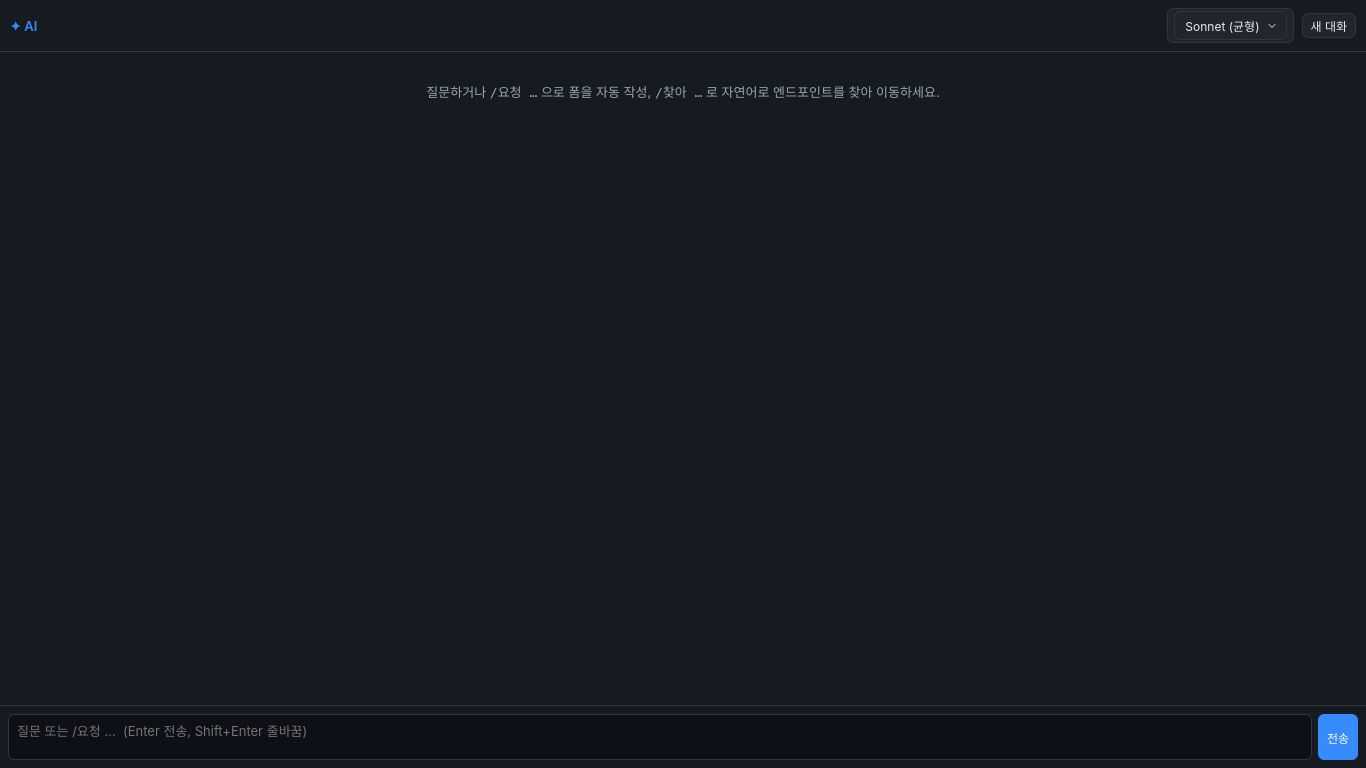
Test case: AiPanel › '새 대화'는 진행 중 스트림을 취소하고 busy를 해제한다
Type "느린 질문" into the text box with placeholder "질문 또는 /요청 … (Enter 전송, Shift+Enter 줄바꿈)" at (660, 737), box x1=8 y1=714 x2=1312 y2=760
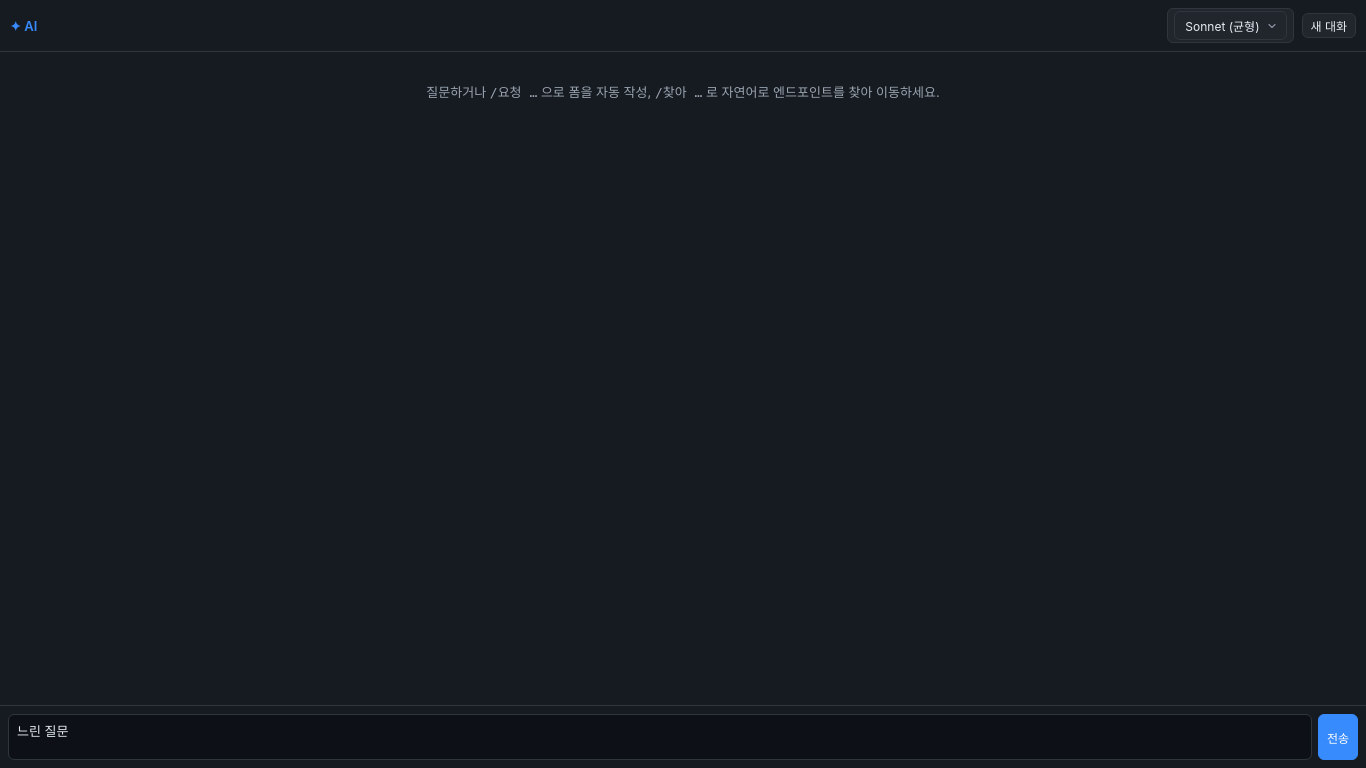
Click the button "전송" at (1338, 737), box x1=1318 y1=714 x2=1358 y2=760
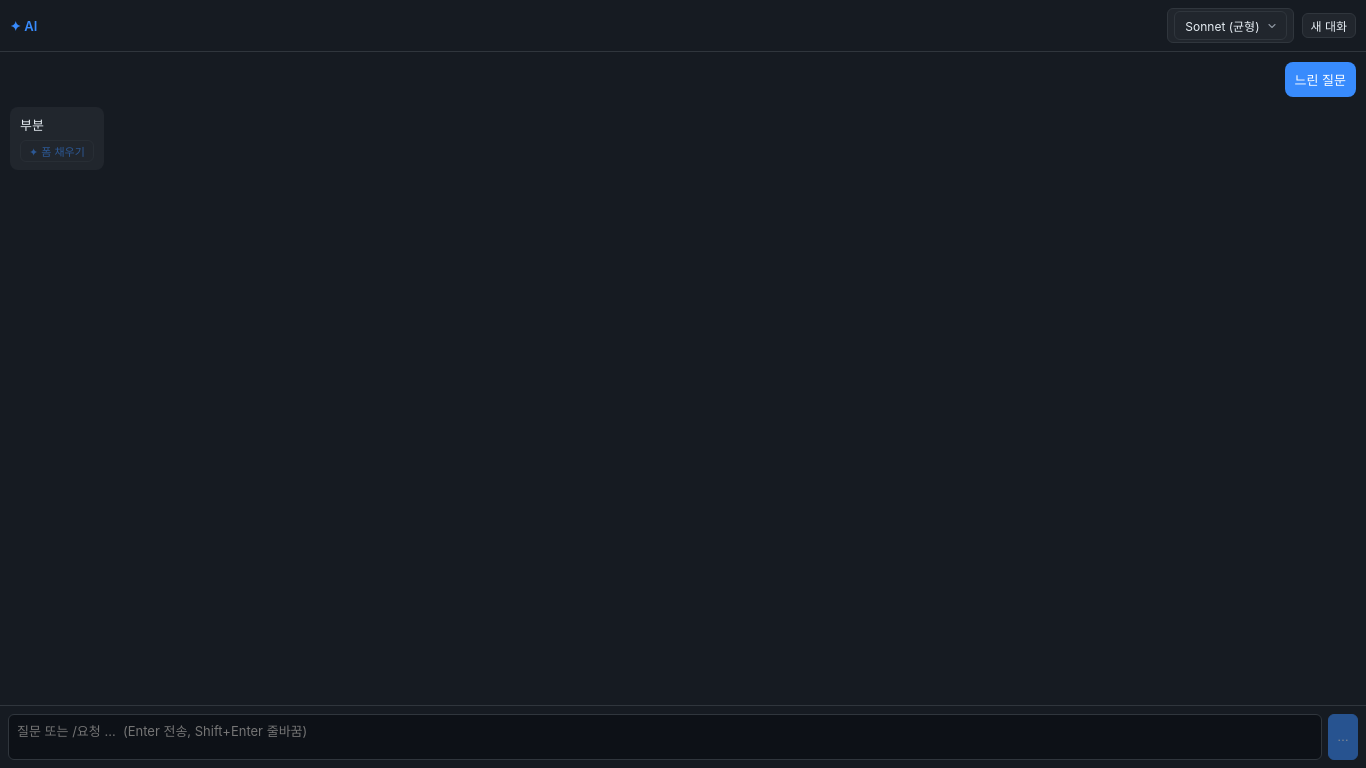
Now the button "…" is shown, box x1=1328 y1=714 x2=1358 y2=760
Click the button "새 대화" at (1329, 26), box x1=1302 y1=13 x2=1356 y2=38
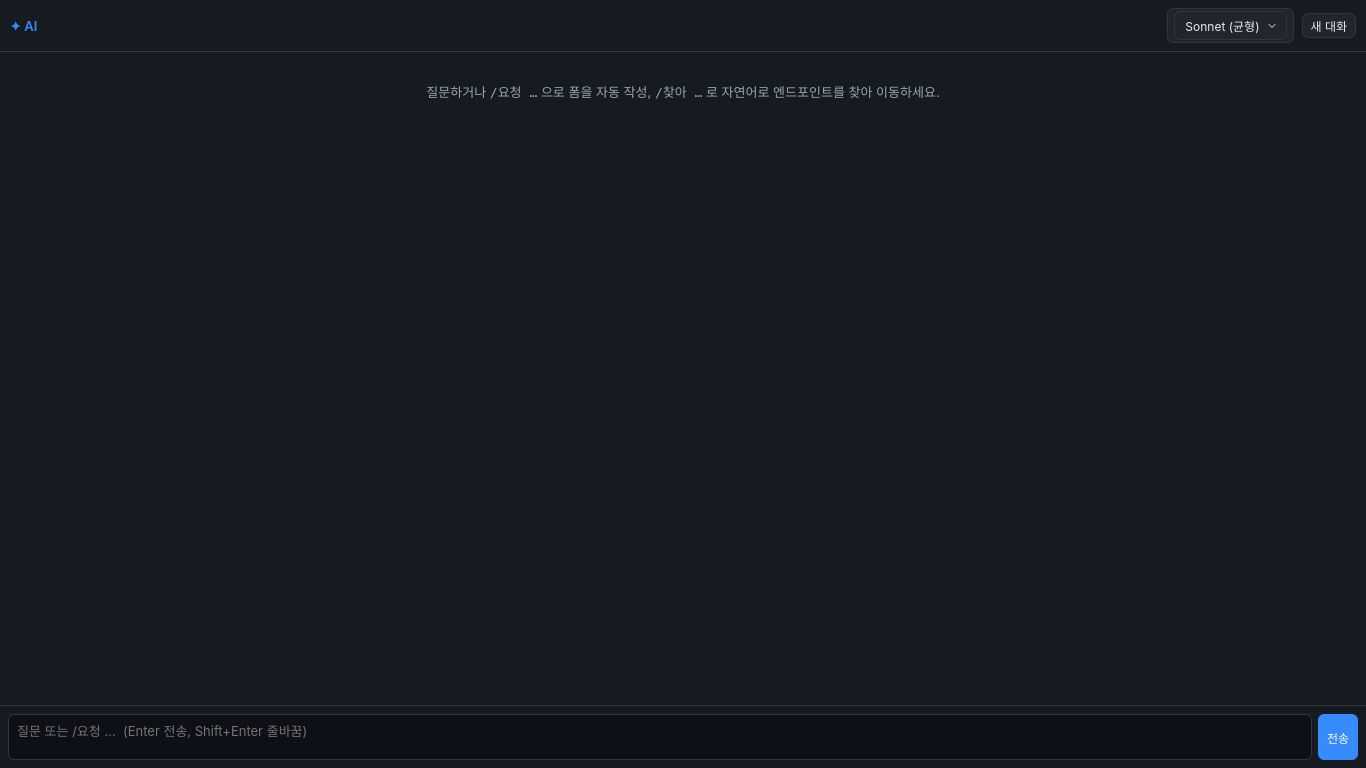
Now the button "전송" is shown, box x1=1318 y1=714 x2=1358 y2=760
